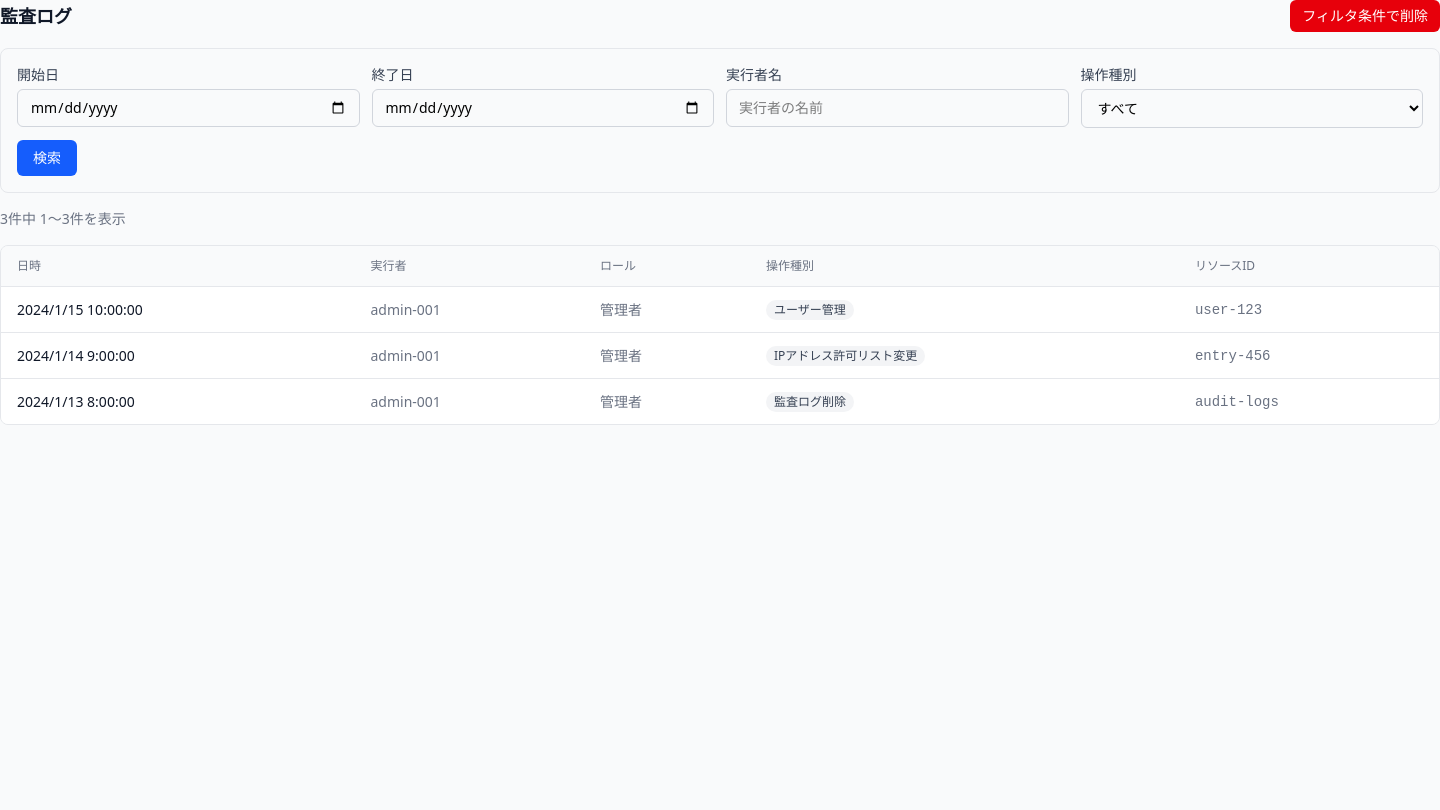
Test: AuditLogViewer › 削除確認ダイアログ (Requirement 14.13) › 削除ボタンクリックで確認ダイアログを表示する
Click the button "フィルタ条件で削除". click: [1365, 16]
box: [1290,0,1439,32]
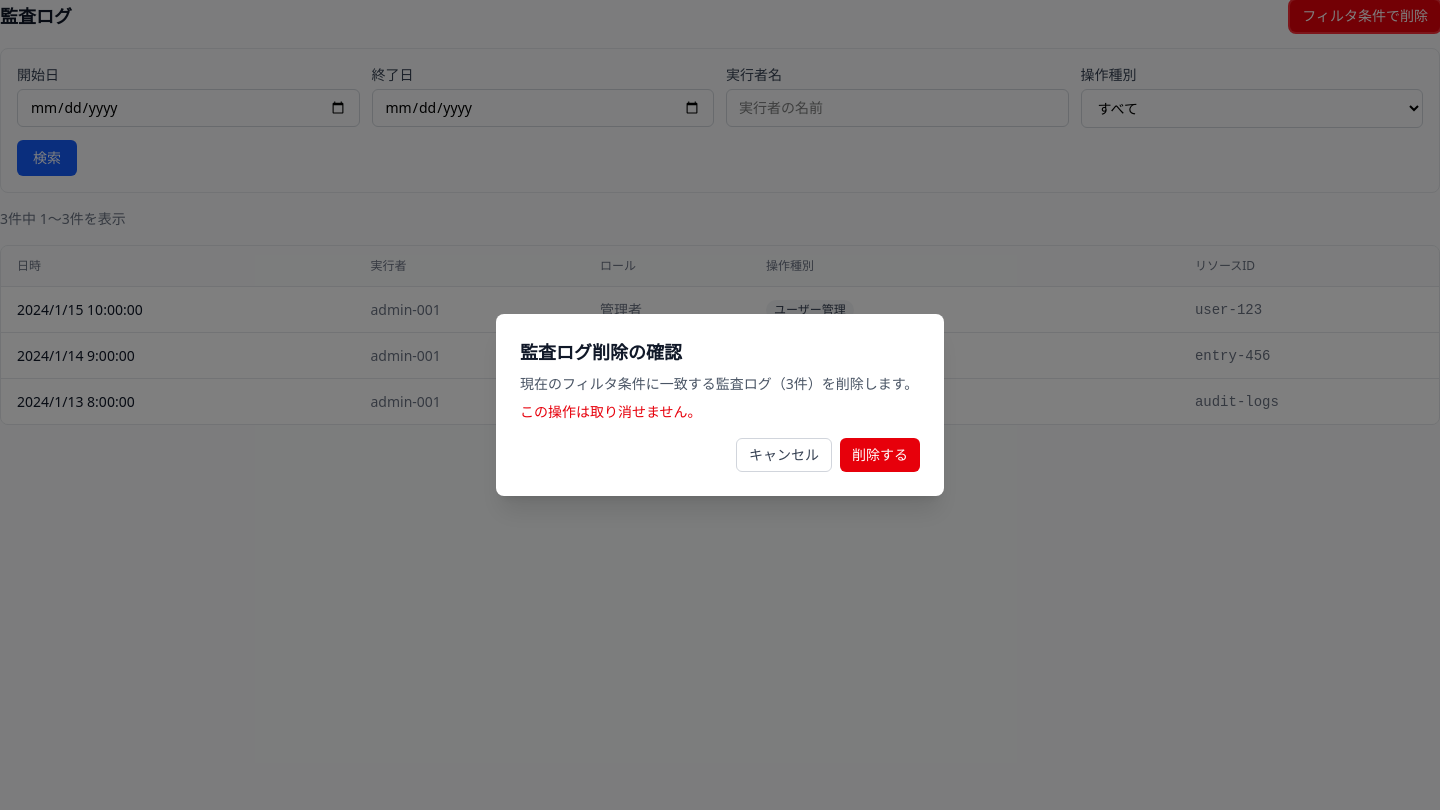
Now the dialog is shown
Now the heading "監査ログ削除の確認" is shown, box [520,340,682,364]
